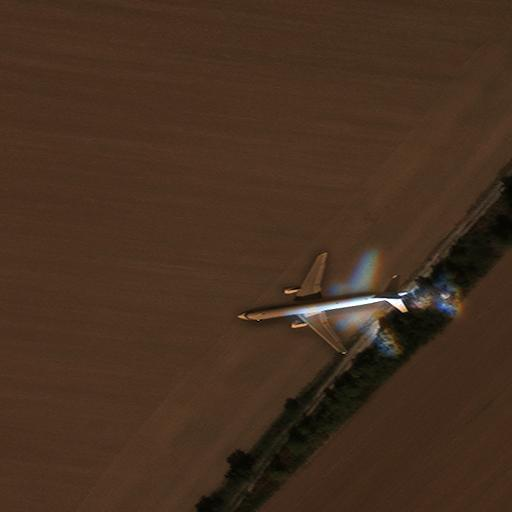Medium Civil Transport: (237, 254, 400, 353)
